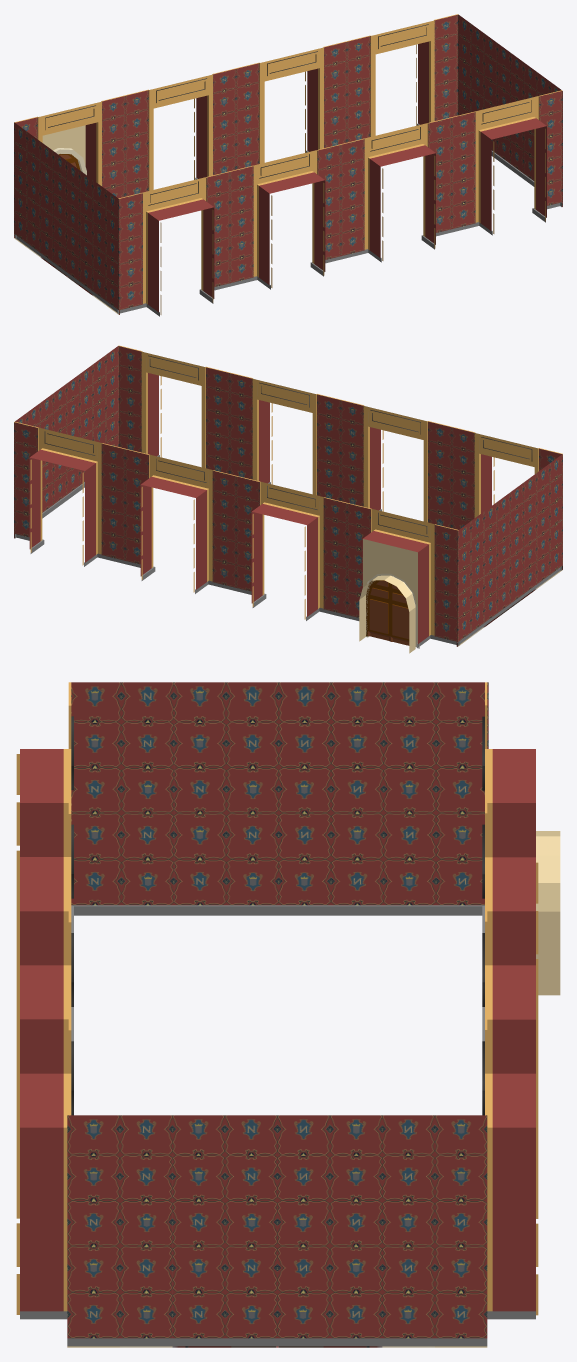
The model's file is Salle_2_Mur.fbx.
3 views of the same model, one above another, from view 1: azimuth 30°, elevation 25°; view 2: azimuth 150°, elevation 25°; view 3: azimuth 270°, elevation 25° (orthographic). The views are drawn at different scales.
Visible parts, largest first — view 1: Salle_2_Mur; view 2: Salle_2_Mur; view 3: Salle_2_Mur.
Boxes of the visible parts, x1,y1,x2,y2 form: Salle_2_Mur: (14,14,562,316); Salle_2_Mur: (14,345,562,653); Salle_2_Mur: (16,682,560,1347).
Size of the model in its own units: 4001 by 1011 by 2124.
1 material, 1 textured.
